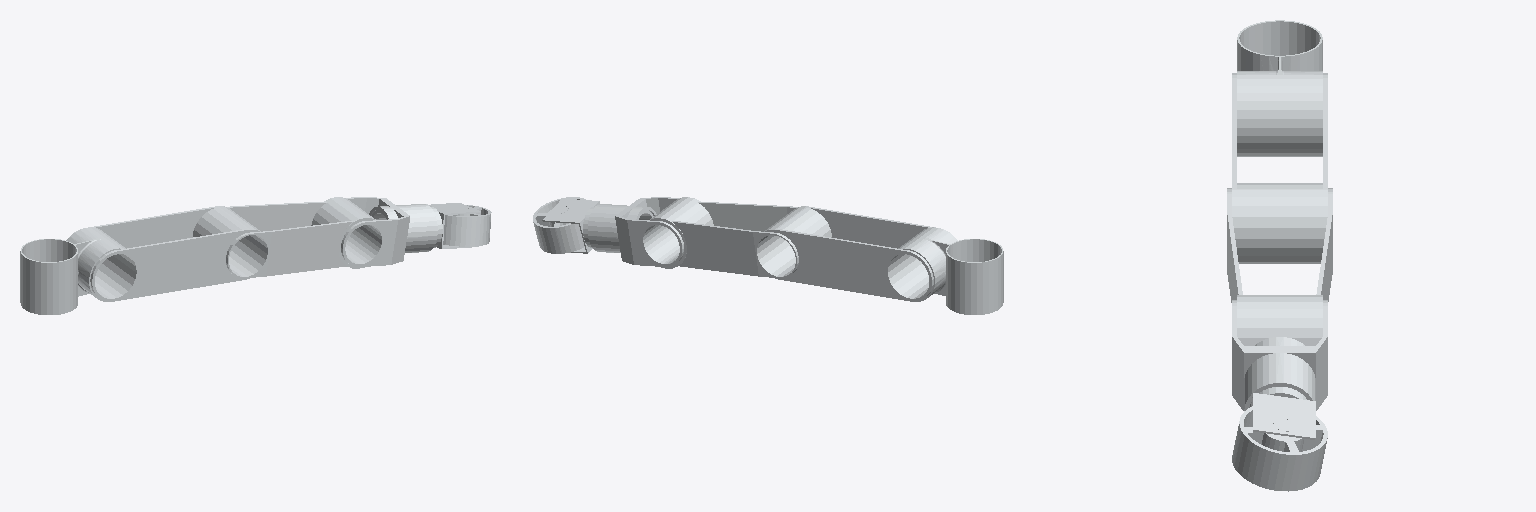
URDF robot description (athlete_leg):
<?xml version="1.0" encoding="utf-8"?>
<!-- This URDF was automatically created by SolidWorks to URDF Exporter! Originally created by [author] ([email redacted]) 
     Commit Version: 1.6.0-4-g7f85cfe  Build Version: 1.6.7995.38578
     For more information, please see http://wiki.ros.org/sw_urdf_exporter -->
<robot
  name="athlete_leg">
  <link
    name="base_link">
    <inertial>
      <origin
        xyz="0.096012 -4.1961E-09 0.0955"
        rpy="0 0 0" />
      <mass
        value="3.0935" />
      <inertia
        ixx="0.022612"
        ixy="-1.6978E-11"
        ixz="1.4148E-11"
        iyy="0.052093"
        iyz="-5.7139E-11"
        izz="0.051688" />
    </inertial>
    <visual>
      <origin
        xyz="0 0 0"
        rpy="0 0 0" />
      <geometry>
        <mesh
          filename="package://athlete_leg/meshes/base_link.STL" />
      </geometry>
      <material
        name="">
        <color
          rgba="0.89804 0.91765 0.92941 1" />
      </material>
    </visual>
    <collision>
      <origin
        xyz="0 0 0"
        rpy="0 0 0" />
      <geometry>
        <mesh
          filename="package://athlete_leg/meshes/base_link.STL" />
      </geometry>
    </collision>
  </link>
  <link
    name="femur_link">
    <inertial>
      <origin
        xyz="0.2493 -0.018679 5.8066E-18"
        rpy="0 0 0" />
      <mass
        value="9.5999" />
      <inertia
        ixx="0.093283"
        ixy="0.030594"
        ixz="6.5075E-17"
        iyy="0.49931"
        iyz="-3.5087E-18"
        izz="0.47562" />
    </inertial>
    <visual>
      <origin
        xyz="0 0 0"
        rpy="0 0 0" />
      <geometry>
        <mesh
          filename="package://athlete_leg/meshes/femur_link.STL" />
      </geometry>
      <material
        name="">
        <color
          rgba="0.89804 0.91765 0.92941 1" />
      </material>
    </visual>
    <collision>
      <origin
        xyz="0 0 0"
        rpy="0 0 0" />
      <geometry>
        <mesh
          filename="package://athlete_leg/meshes/femur_link.STL" />
      </geometry>
    </collision>
  </link>
  <joint
    name="femur_joint"
    type="revolute">
    <origin
      xyz="0.191 0 0.0955"
      rpy="1.5708 0 0" />
    <parent
      link="base_link" />
    <child
      link="femur_link" />
    <axis
      xyz="0 0 -1" />
    <limit
      lower="-1.5"
      upper="1.5"
      effort="100"
      velocity="0.5" />
  </joint>
  <link
    name="tibia_link">
    <inertial>
      <origin
        xyz="0.25893 -0.038778 9.2256E-05"
        rpy="0 0 0" />
      <mass
        value="6.9601" />
      <inertia
        ixx="0.068448"
        ixy="0.032772"
        ixz="-1.2097E-05"
        iyy="0.28234"
        iyz="2.7265E-06"
        izz="0.26523" />
    </inertial>
    <visual>
      <origin
        xyz="0 0 0"
        rpy="0 0 0" />
      <geometry>
        <mesh
          filename="package://athlete_leg/meshes/tibia_link.STL" />
      </geometry>
      <material
        name="">
        <color
          rgba="0.89804 0.91765 0.92941 1" />
      </material>
    </visual>
    <collision>
      <origin
        xyz="0 0 0"
        rpy="0 0 0" />
      <geometry>
        <mesh
          filename="package://athlete_leg/meshes/tibia_link.STL" />
      </geometry>
    </collision>
  </link>
  <joint
    name="tibia_joint"
    type="revolute">
    <origin
      xyz="0.4986 -0.037358 0"
      rpy="0 0 0" />
    <parent
      link="femur_link" />
    <child
      link="tibia_link" />
    <axis
      xyz="0 0 1" />
    <limit
      lower="-1.5"
      upper="1.5"
      effort="100"
      velocity="0.5" />
  </joint>
  <link
    name="pwheel_link">
    <inertial>
      <origin
        xyz="0.10237 -0.017393 4.0783E-17"
        rpy="0 0 0" />
      <mass
        value="6.3303" />
      <inertia
        ixx="0.045039"
        ixy="0.00021626"
        ixz="-3.6824E-18"
        iyy="0.046275"
        iyz="9.9812E-18"
        izz="0.037303" />
    </inertial>
    <visual>
      <origin
        xyz="0 0 0"
        rpy="0 0 0" />
      <geometry>
        <mesh
          filename="package://athlete_leg/meshes/pwheel_link.STL" />
      </geometry>
      <material
        name="">
        <color
          rgba="0.89804 0.91765 0.92941 1" />
      </material>
    </visual>
    <collision>
      <origin
        xyz="0 0 0"
        rpy="0 0 0" />
      <geometry>
        <mesh
          filename="package://athlete_leg/meshes/pwheel_link.STL" />
      </geometry>
    </collision>
  </link>
  <joint
    name="pwheel_joint"
    type="revolute">
    <origin
      xyz="0.44504 -0.066659 0"
      rpy="0 0 0" />
    <parent
      link="tibia_link" />
    <child
      link="pwheel_link" />
    <axis
      xyz="0 0 1" />
    <limit
      lower="-1.5"
      upper="1.5"
      effort="100"
      velocity="0.5" />
  </joint>
  <link
    name="rwheel_link">
    <inertial>
      <origin
        xyz="2.4925E-14 -6.5088E-15 0.036219"
        rpy="0 0 0" />
      <mass
        value="2.8914" />
      <inertia
        ixx="0.026433"
        ixy="0.00010109"
        ixz="-4.3368E-18"
        iyy="0.02702"
        iyz="-1.0828E-17"
        izz="0.012233" />
    </inertial>
    <visual>
      <origin
        xyz="0 0 0"
        rpy="0 0 0" />
      <geometry>
        <mesh
          filename="package://athlete_leg/meshes/rwheel_link.STL" />
      </geometry>
      <material
        name="">
        <color
          rgba="0.89804 0.91765 0.92941 1" />
      </material>
    </visual>
    <collision>
      <origin
        xyz="0 0 0"
        rpy="0 0 0" />
      <geometry>
        <mesh
          filename="package://athlete_leg/meshes/rwheel_link.STL" />
      </geometry>
    </collision>
  </link>
  <joint
    name="rwheel_joint"
    type="revolute">
    <origin
      xyz="0.22182 -0.037689 0"
      rpy="1.5708 0 1.4025" />
    <parent
      link="pwheel_link" />
    <child
      link="rwheel_link" />
    <axis
      xyz="0 0 -1" />
    <limit
      lower="-3.14"
      upper="3.14"
      effort="100"
      velocity="0.5" />
  </joint>
  <link
    name="wheel_link">
    <inertial>
      <origin
        xyz="4.3743E-14 4.2449E-15 -0.06"
        rpy="0 0 0" />
      <mass
        value="4.7013" />
      <inertia
        ixx="0.014957"
        ixy="-4.0387E-18"
        ixz="-4.3368E-19"
        iyy="0.014957"
        iyz="1.5179E-18"
        izz="0.02163" />
    </inertial>
    <visual>
      <origin
        xyz="0 0 0"
        rpy="0 0 0" />
      <geometry>
        <mesh
          filename="package://athlete_leg/meshes/wheel_link.STL" />
      </geometry>
      <material
        name="">
        <color
          rgba="0.89804 0.91765 0.92941 1" />
      </material>
    </visual>
    <collision>
      <origin
        xyz="0 0 0"
        rpy="0 0 0" />
      <geometry>
        <mesh
          filename="package://athlete_leg/meshes/wheel_link.STL" />
      </geometry>
    </collision>
  </link>
  <joint
    name="wheel_joint"
    type="continuous">
    <origin
      xyz="0.059177 -0.0099024 0.21"
      rpy="1.5708 -1.5428 1.405" />
    <parent
      link="rwheel_link" />
    <child
      link="wheel_link" />
    <axis
      xyz="0 0 -1" />
    <limit
      effort="1000"
      velocity="0.5" />
  </joint>
</robot>

--- Facts derived from the render (not from the file) ---
3 views of the same robot in one strip: view 1: azimuth 30°, elevation 25°; view 2: azimuth 150°, elevation 25°; view 3: azimuth 270°, elevation 25° (orthographic).
Model athlete_leg with 6 links and 5 joints (4 revolute, 1 continuous), rooted at base_link, posed every joint at zero.
Visible links, largest first — view 1: femur_link, tibia_link, base_link, pwheel_link, wheel_link, rwheel_link; view 2: femur_link, tibia_link, base_link, pwheel_link, wheel_link, rwheel_link; view 3: base_link, femur_link, tibia_link, pwheel_link, wheel_link, rwheel_link.
Link boxes in pixels (x1,y1,x2,y2): femur_link: (66, 206, 260, 301); tibia_link: (226, 197, 375, 277); base_link: (20, 227, 125, 314); pwheel_link: (341, 197, 437, 266); wheel_link: (443, 205, 491, 246); rwheel_link: (372, 203, 480, 248); femur_link: (764, 206, 957, 301); tibia_link: (650, 197, 798, 277); base_link: (898, 227, 1003, 314); pwheel_link: (588, 197, 683, 266); wheel_link: (533, 197, 585, 253); rwheel_link: (542, 199, 653, 253); base_link: (1237, 20, 1322, 156); femur_link: (1232, 73, 1327, 263); tibia_link: (1227, 188, 1332, 345); pwheel_link: (1232, 300, 1327, 410); wheel_link: (1232, 406, 1327, 491); rwheel_link: (1249, 387, 1315, 439).
Bounding box of the posed robot: 1.77 × 0.234 × 0.348 m (x, y, z).
Meshes: 6 distinct files referenced, 6 mesh visuals loaded (6 binary STL).